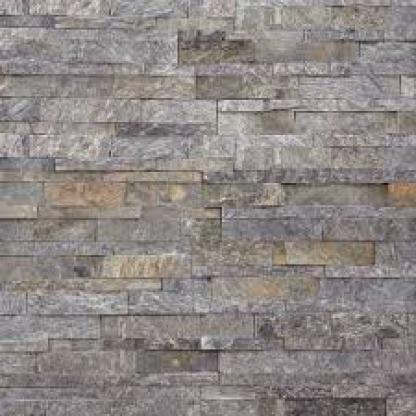Metamorphic_Quartize: (94, 305, 255, 346), (96, 207, 220, 248), (272, 235, 384, 277), (137, 85, 222, 131)
